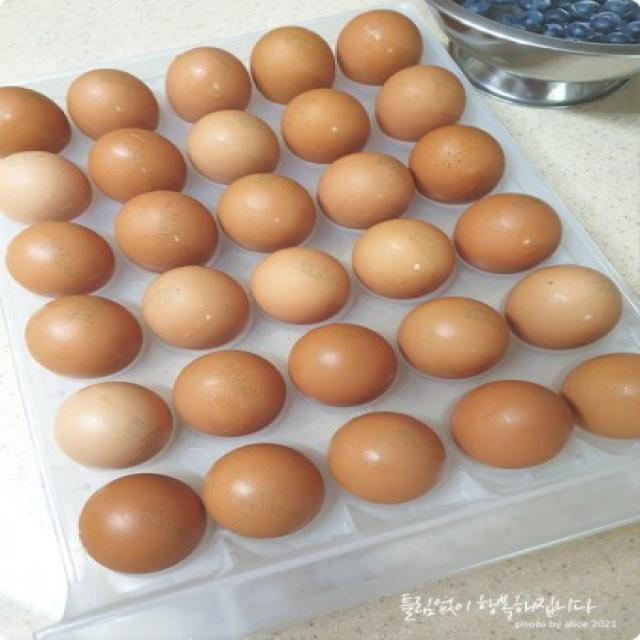eggs: (75, 471, 211, 576), (193, 445, 331, 546), (41, 376, 171, 467), (500, 262, 627, 353), (447, 379, 570, 471), (19, 292, 148, 377), (166, 347, 286, 435), (328, 414, 451, 496), (125, 271, 253, 348), (394, 296, 509, 379), (284, 322, 398, 402), (240, 242, 354, 322), (453, 194, 559, 276), (348, 222, 455, 302), (368, 62, 472, 143), (214, 172, 318, 249), (335, 8, 435, 85), (0, 222, 120, 286), (109, 194, 220, 261), (408, 123, 503, 200), (561, 354, 640, 446), (304, 157, 414, 223), (84, 128, 185, 196), (275, 89, 372, 158), (158, 45, 252, 115), (0, 146, 92, 216), (184, 110, 280, 176), (66, 69, 159, 136), (248, 31, 334, 102), (0, 86, 77, 162)
